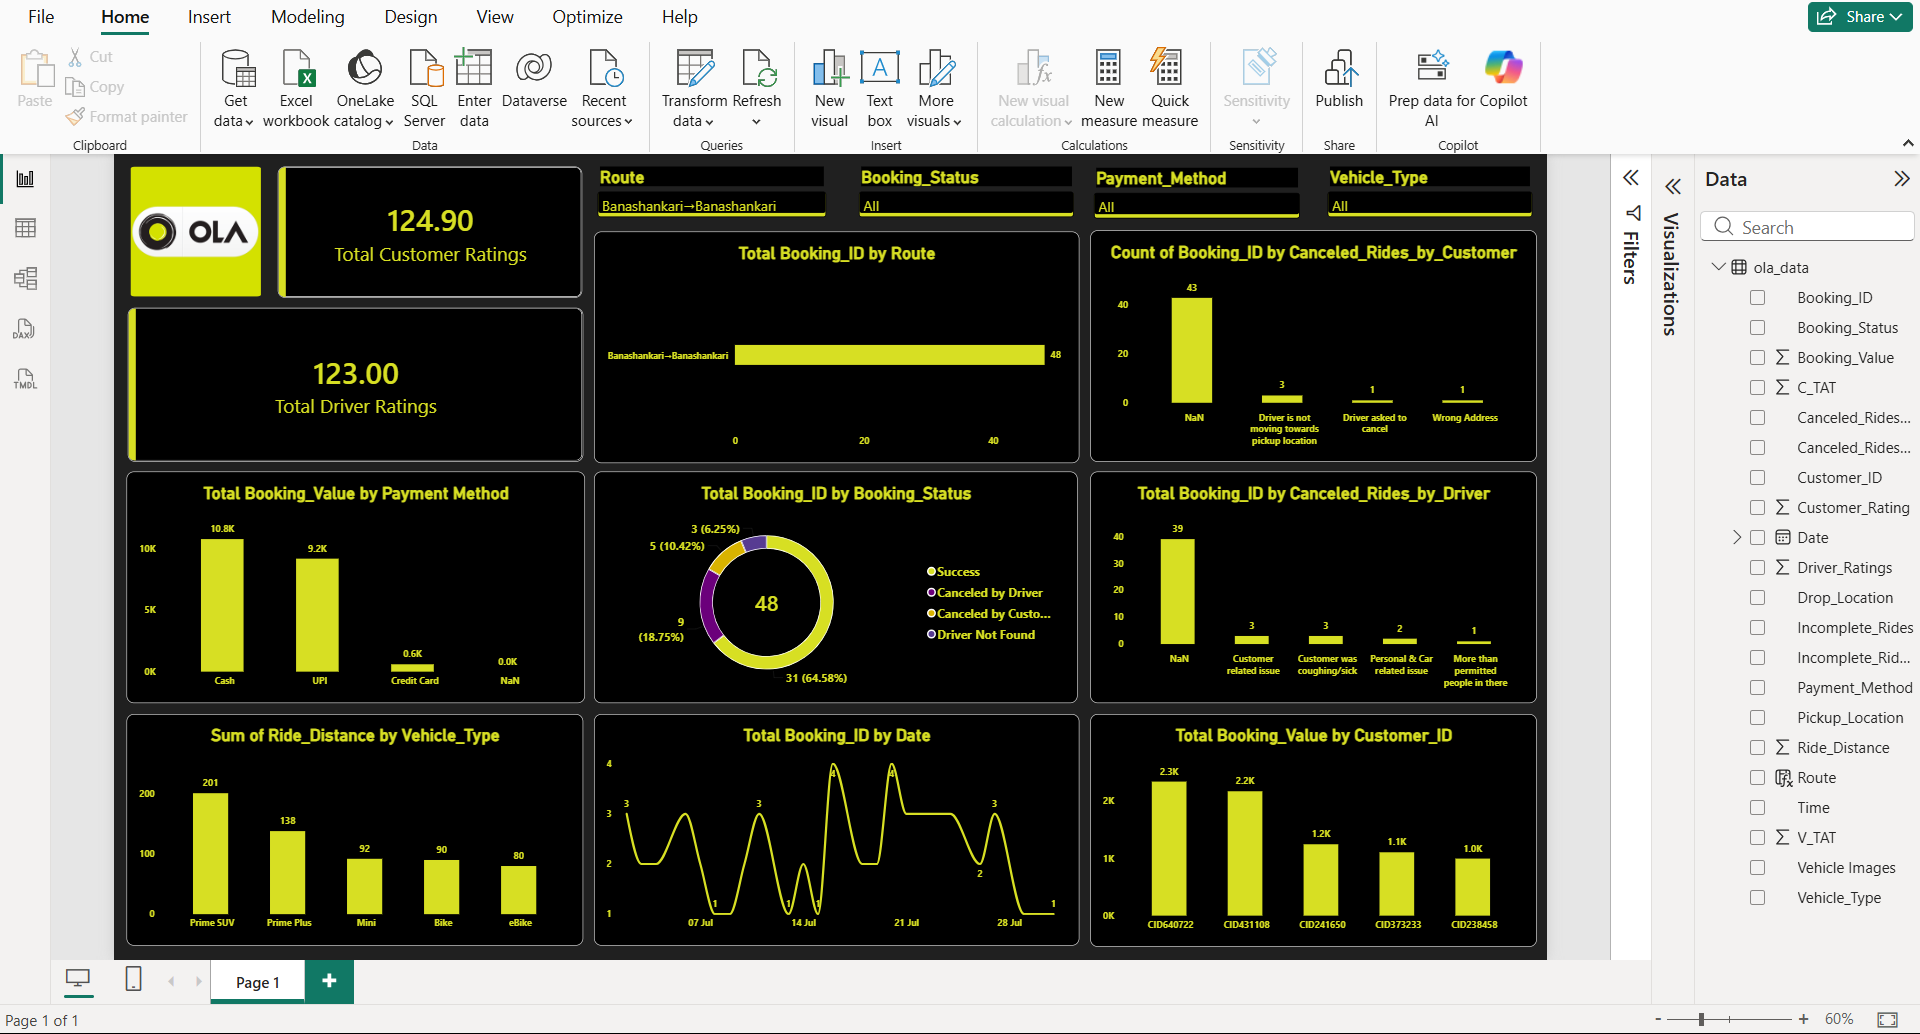

Layout of this report page (visuals, bound fields, positions):
{"tool":"powerbi","page":{"name":"Page 1","canvas":[1920,1080],"ordinal":0},"visuals":[{"type":"lineChart","title":"Total Booking_ID by Date","fields":{"Y":["CountNonNull(ola_data.Booking_ID)"],"Category":["ola_data.Date.Variation.Date Hierarchy.Year","ola_data.Date.Variation.Date Hierarchy.Quarter","ola_data.Date.Variation.Date Hierarchy.Month","ola_data.Date.Variation.Date Hierarchy.Day"]},"box":[644,750,650,310],"z":0},{"type":"donutChart","title":"Total Booking_ID by Booking_Status","fields":{"Category":["ola_data.Booking_Status"],"Y":["CountNonNull(ola_data.Booking_ID)"]},"box":[644,426,648,310],"z":1000},{"type":"slicer","fields":{"Values":["ola_data.Vehicle_Type"]},"box":[1622,16,284,70],"z":2000},{"type":"clusteredColumnChart","fields":{"Y":["Sum(ola_data.Ride_Distance)"],"Category":["ola_data.Vehicle_Type"]},"box":[16,750,612,310],"z":3000},{"type":"columnChart","title":"Total Booking_Value by Payment Method","fields":{"Y":["Sum(ola_data.Booking_Value)"],"Category":["ola_data.Payment_Method"]},"box":[16,426,614,310],"z":4000},{"type":"clusteredColumnChart","title":"Total Booking_Value by Customer_ID","fields":{"Y":["Sum(ola_data.Booking_Value)"],"Category":["ola_data.Customer_ID"]},"box":[1308,750,598,312],"z":5000},{"type":"cardVisual","fields":{"Data":["Sum(ola_data.Driver_Ratings)"]},"box":[18,206,610,206],"z":6000},{"type":"cardVisual","fields":{"Data":["Sum(ola_data.Customer_Rating)"]},"box":[220,16,408,176],"z":7000},{"type":"columnChart","fields":{"Category":["ola_data.Canceled_Rides_by_Customer"],"Y":["CountNonNull(ola_data.Booking_ID)"]},"box":[1308,102,598,310],"z":8000},{"type":"columnChart","title":"Total Booking_ID by Canceled_Rides_by_Driver","fields":{"Category":["ola_data.Canceled_Rides_by_Driver"],"Y":["CountNonNull(ola_data.Booking_ID)"]},"box":[1308,426,598,310],"z":9000},{"type":"slicer","fields":{"Values":["ola_data.Booking_Status"]},"box":[994,16,298,70],"z":10000},{"type":"slicer","fields":{"Values":["ola_data.Payment_Method"]},"box":[1308,18,286,70],"z":11000},{"type":"clusteredBarChart","title":"Total Booking_ID by Route","fields":{"Category":["ola_data.Route"],"Y":["CountNonNull(ola_data.Booking_ID)"]},"box":[644,104,650,310],"z":12000},{"type":"slicer","fields":{"Values":["ola_data.Route"]},"box":[644,16,316,70],"z":13000},{"type":"image","box":[18,16,182,174],"z":14000}]}

Visuals, with their boxes on the page's 1920x1080 design canvas (x1, y1, x2, y2). These are canvas units, not pixel positions in the 1920x1034 screenshot, which may show the page scaled, cropped or inside an application window:
"Total Booking_ID by Date" lineChart: {"x1": 644, "y1": 750, "x2": 1294, "y2": 1060}
"Total Booking_ID by Booking_Status" donutChart: {"x1": 644, "y1": 426, "x2": 1292, "y2": 736}
slicer - ola_data.Vehicle_Type: {"x1": 1622, "y1": 16, "x2": 1906, "y2": 86}
clusteredColumnChart - Sum(ola_data.Ride_Distance) x ola_data.Vehicle_Type: {"x1": 16, "y1": 750, "x2": 628, "y2": 1060}
"Total Booking_Value by Payment Method" columnChart: {"x1": 16, "y1": 426, "x2": 630, "y2": 736}
"Total Booking_Value by Customer_ID" clusteredColumnChart: {"x1": 1308, "y1": 750, "x2": 1906, "y2": 1062}
cardVisual - Sum(ola_data.Driver_Ratings): {"x1": 18, "y1": 206, "x2": 628, "y2": 412}
cardVisual - Sum(ola_data.Customer_Rating): {"x1": 220, "y1": 16, "x2": 628, "y2": 192}
columnChart - ola_data.Canceled_Rides_by_Customer x CountNonNull(ola_data.Booking_ID): {"x1": 1308, "y1": 102, "x2": 1906, "y2": 412}
"Total Booking_ID by Canceled_Rides_by_Driver" columnChart: {"x1": 1308, "y1": 426, "x2": 1906, "y2": 736}
slicer - ola_data.Booking_Status: {"x1": 994, "y1": 16, "x2": 1292, "y2": 86}
slicer - ola_data.Payment_Method: {"x1": 1308, "y1": 18, "x2": 1594, "y2": 88}
"Total Booking_ID by Route" clusteredBarChart: {"x1": 644, "y1": 104, "x2": 1294, "y2": 414}
slicer - ola_data.Route: {"x1": 644, "y1": 16, "x2": 960, "y2": 86}
image: {"x1": 18, "y1": 16, "x2": 200, "y2": 190}
